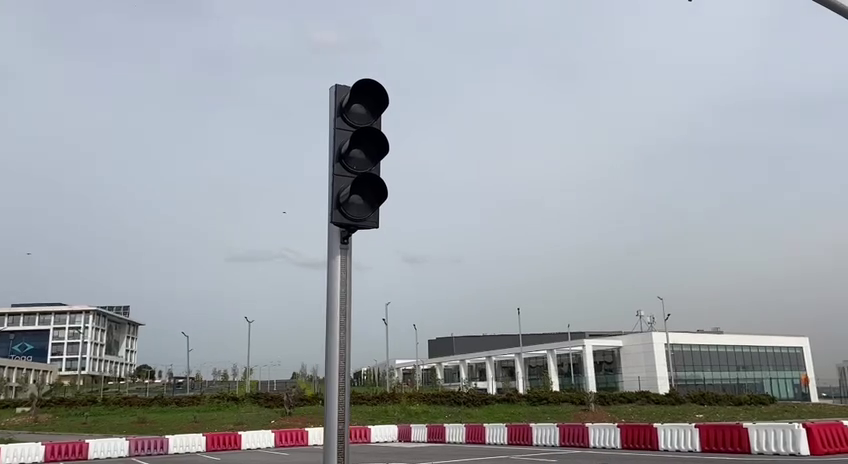trafficLight: (320, 72, 391, 240)
